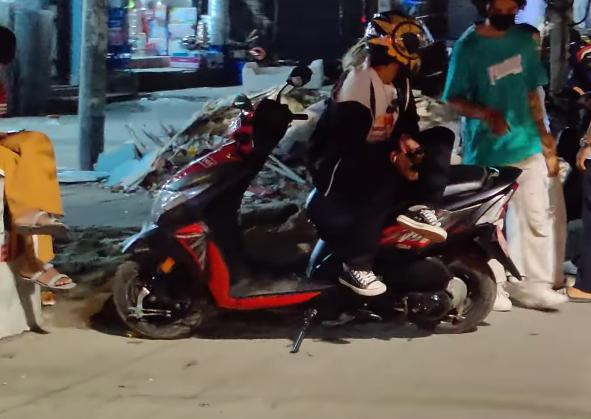scooter: (98, 64, 521, 351)
